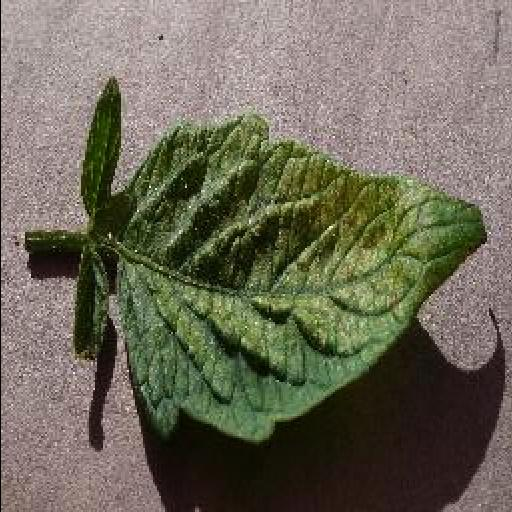disease_tomato: (118, 114, 492, 442)
